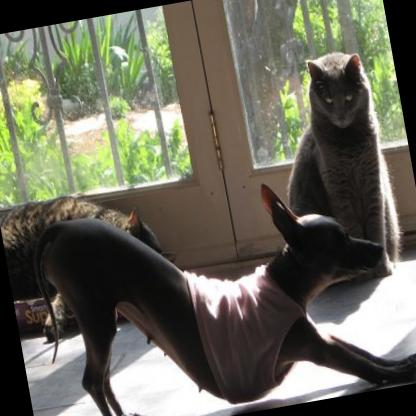Mexican_hairless: (22, 155, 416, 416)
